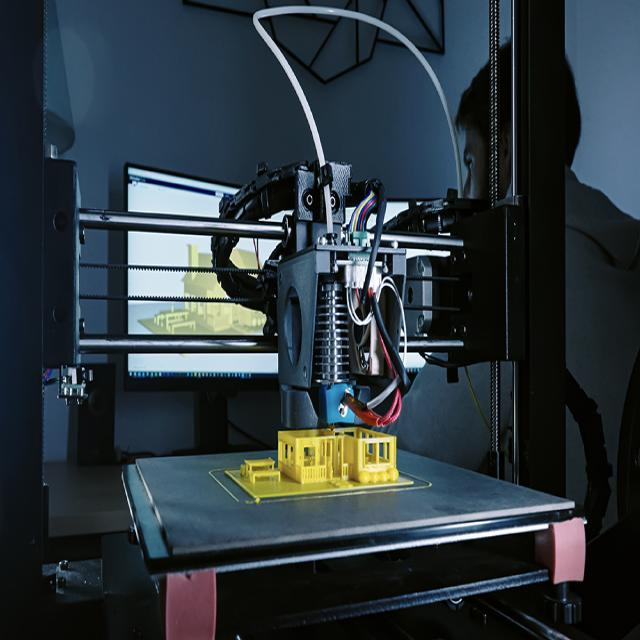Without deffect: (218, 414, 428, 516)
